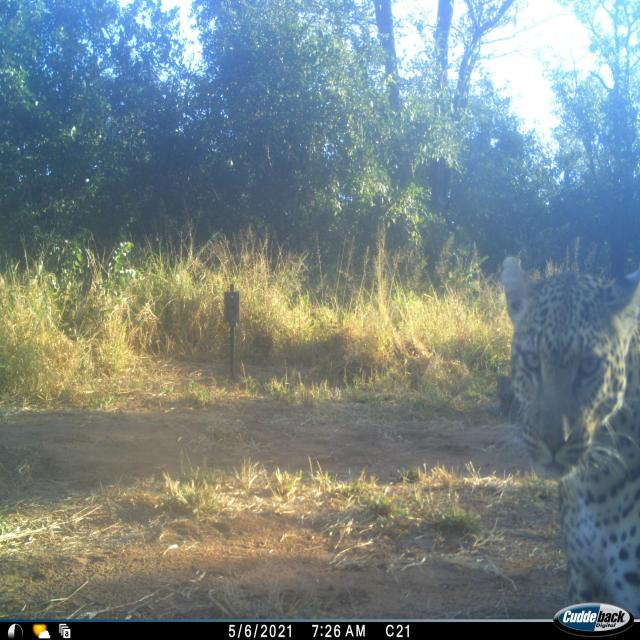Leopard: (521, 225, 640, 640)
